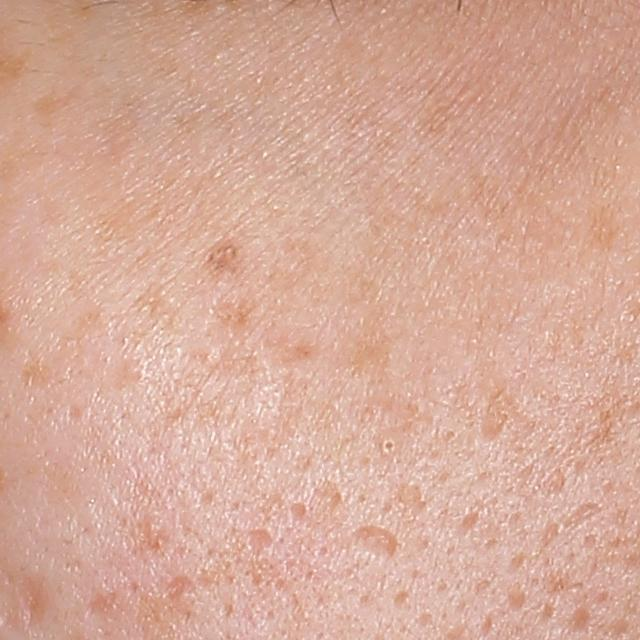atrophic_scar: (556, 497, 609, 538), (351, 525, 409, 553), (395, 482, 432, 521), (240, 523, 277, 561), (282, 501, 310, 531), (567, 606, 592, 638), (165, 576, 192, 600)
comedo: (379, 434, 401, 455)
melasma: (205, 295, 262, 336), (587, 200, 628, 253)
